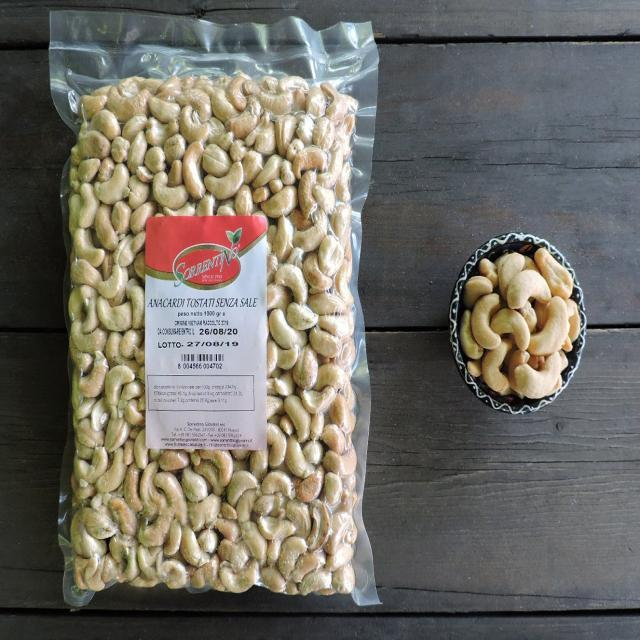Frutta secca: (463, 250, 589, 405)
